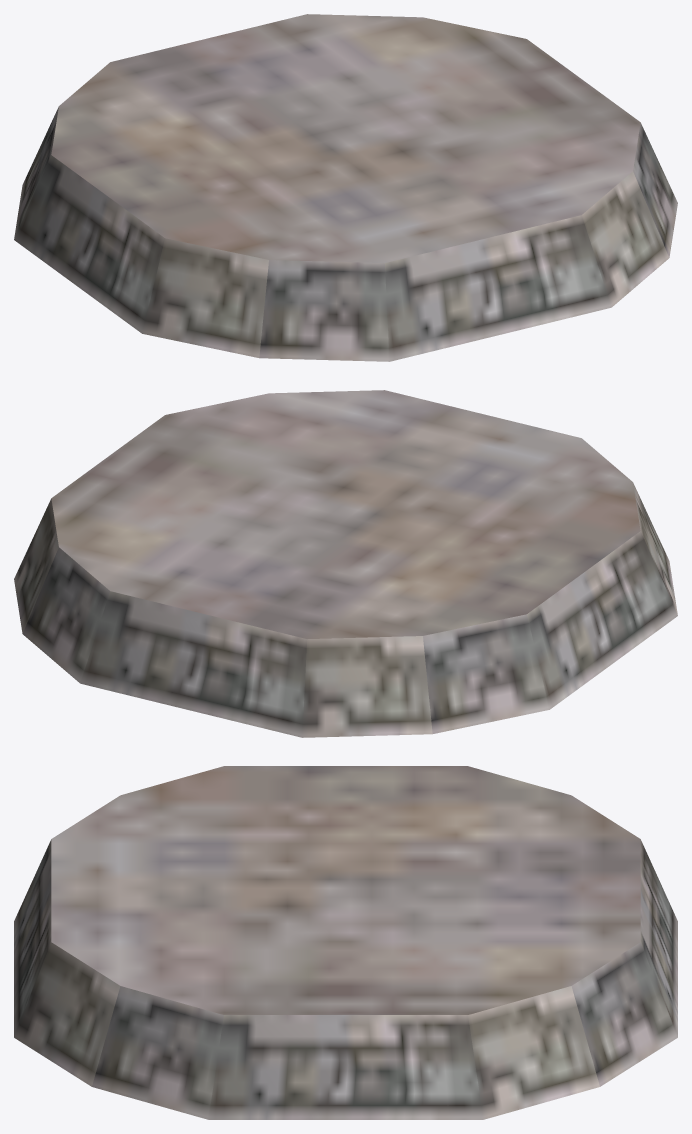
Rendered from rebel_gunboat_turretbase_s01_l1.fbx.
The picture shows the model from 3 angles, top to bottom: view 1: azimuth 30°, elevation 25°; view 2: azimuth 150°, elevation 25°; view 3: azimuth 270°, elevation 25°; orthographic projection. The views are drawn at different scales.
Visible parts, largest first — view 1: mesh_node; view 2: mesh_node; view 3: mesh_node.
Part boxes in pixels (x1=…): mesh_node: x1=14, y1=14, x2=677, y2=361; mesh_node: x1=14, y1=390, x2=677, y2=737; mesh_node: x1=14, y1=766, x2=677, y2=1119.
Bounding box in the file's own units: 7.07 × 1.04 × 7.07.
